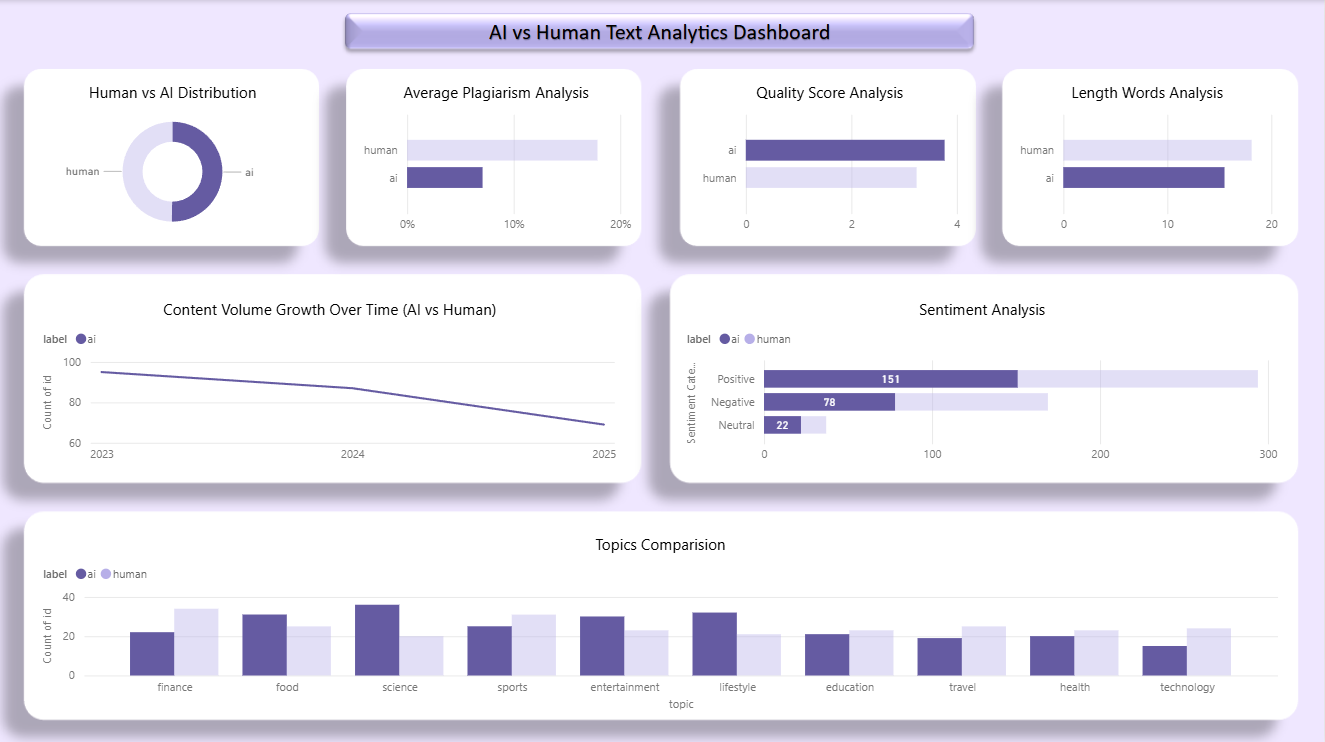

The page's visual inventory and layout, read from the dashboard file:
{"tool":"powerbi","page":{"name":"Page 1","canvas":[1280,720],"ordinal":0},"visuals":[{"type":"donutChart","title":"Human vs AI Distribution ","fields":{"Category":["ai_vs_human_dataset_medium.label"],"Y":["CountNonNull(ai_vs_human_dataset_medium.id)"]},"box":[38.3,78.3,260,155],"z":0},{"type":"clusteredBarChart","title":"Quality Score Analysis","fields":{"Category":["ai_vs_human_dataset_medium.label"],"Y":["Avg(ai_vs_human_dataset_medium.quality_score)"]},"box":[671.7,78.3,261.7,155],"z":3},{"type":"barChart","title":"Average Plagiarism Analysis","fields":{"Category":["ai_vs_human_dataset_medium.label"],"Y":["Avg(ai_vs_human_dataset_medium.plagiarism_score)"]},"box":[345,78.3,271.7,155],"z":5},{"type":"clusteredColumnChart","title":"Topics Comparision","fields":{"Category":["ai_vs_human_dataset_medium.topic"],"Series":["ai_vs_human_dataset_medium.label"],"Y":["CountNonNull(ai_vs_human_dataset_medium.id)"]},"box":[38.3,515,1201.7,175],"z":6},{"type":"clusteredBarChart","title":"Length Words Analysis","fields":{"Category":["ai_vs_human_dataset_medium.label"],"Y":["Avg(ai_vs_human_dataset_medium.length_words)"]},"box":[978.3,78.3,261.7,155],"z":7},{"type":"barChart","title":"Sentiment Analysis","fields":{"Series":["ai_vs_human_dataset_medium.label"],"Y":["CountNonNull(ai_vs_human_dataset_medium.id)"],"Category":["ai_vs_human_dataset_medium.Sentiment Category"]},"box":[660,288.3,580,166.7],"z":8},{"type":"lineChart","title":"Content Volume Growth Over Time (AI vs Human)","fields":{"Y":["CountNonNull(ai_vs_human_dataset_medium.id)"],"Series":["ai_vs_human_dataset_medium.label"],"Category":["ai_vs_human_dataset_medium.timestamp.Variation.Date Hierarchy.Year"]},"box":[38.3,288.3,563.3,166.7],"z":9}]}

Visuals, with their boxes in screenshot pixels (x1, y1, x2, y2), scaled from the page's 1280x720 canvas onto the 1325x742 screenshot:
"Human vs AI Distribution " donutChart: [40, 81, 309, 240]
"Quality Score Analysis" clusteredBarChart: [695, 81, 966, 240]
"Average Plagiarism Analysis" barChart: [357, 81, 638, 240]
"Topics Comparision" clusteredColumnChart: [40, 531, 1284, 711]
"Length Words Analysis" clusteredBarChart: [1013, 81, 1284, 240]
"Sentiment Analysis" barChart: [683, 297, 1284, 469]
"Content Volume Growth Over Time (AI vs Human)" lineChart: [40, 297, 623, 469]
